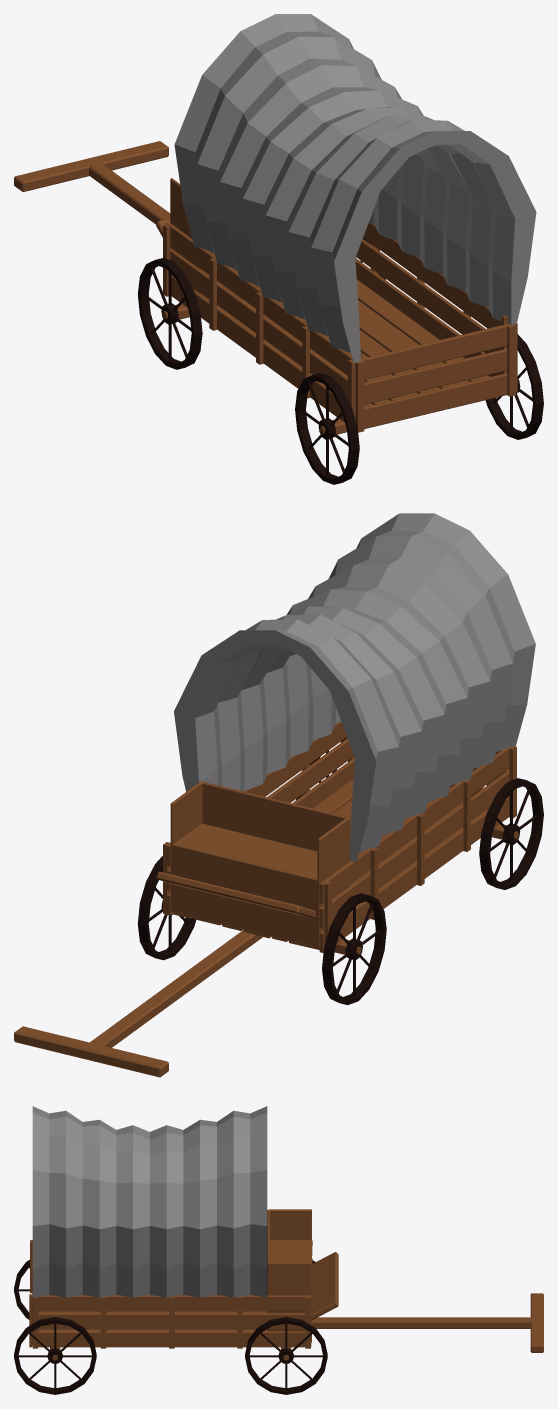
The model's file is ww_cart_c.glb.
The picture shows the model from 3 angles, top to bottom: view 1: azimuth 30°, elevation 25°; view 2: azimuth 150°, elevation 25°; view 3: azimuth 270°, elevation 25°; orthographic projection. The views are drawn at different scales.
Parts seen in each view (by area): view 1: Cart_C; view 2: Cart_C; view 3: Cart_C.
Boxes of the visible parts, left/top/right/bottom form: Cart_C: left=14, top=14, right=543, bottom=484; Cart_C: left=14, top=513, right=543, bottom=1077; Cart_C: left=14, top=1106, right=543, bottom=1394.
Bounding box in the file's own units: 2.16 × 3.45 × 6.68.
